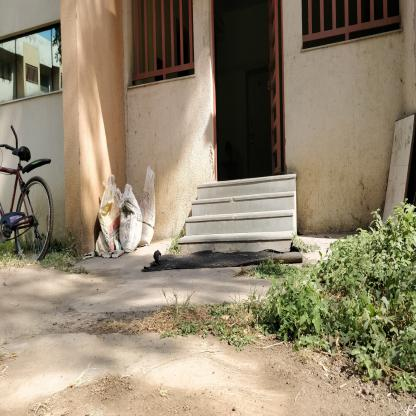stairs: (198, 173, 291, 253)
